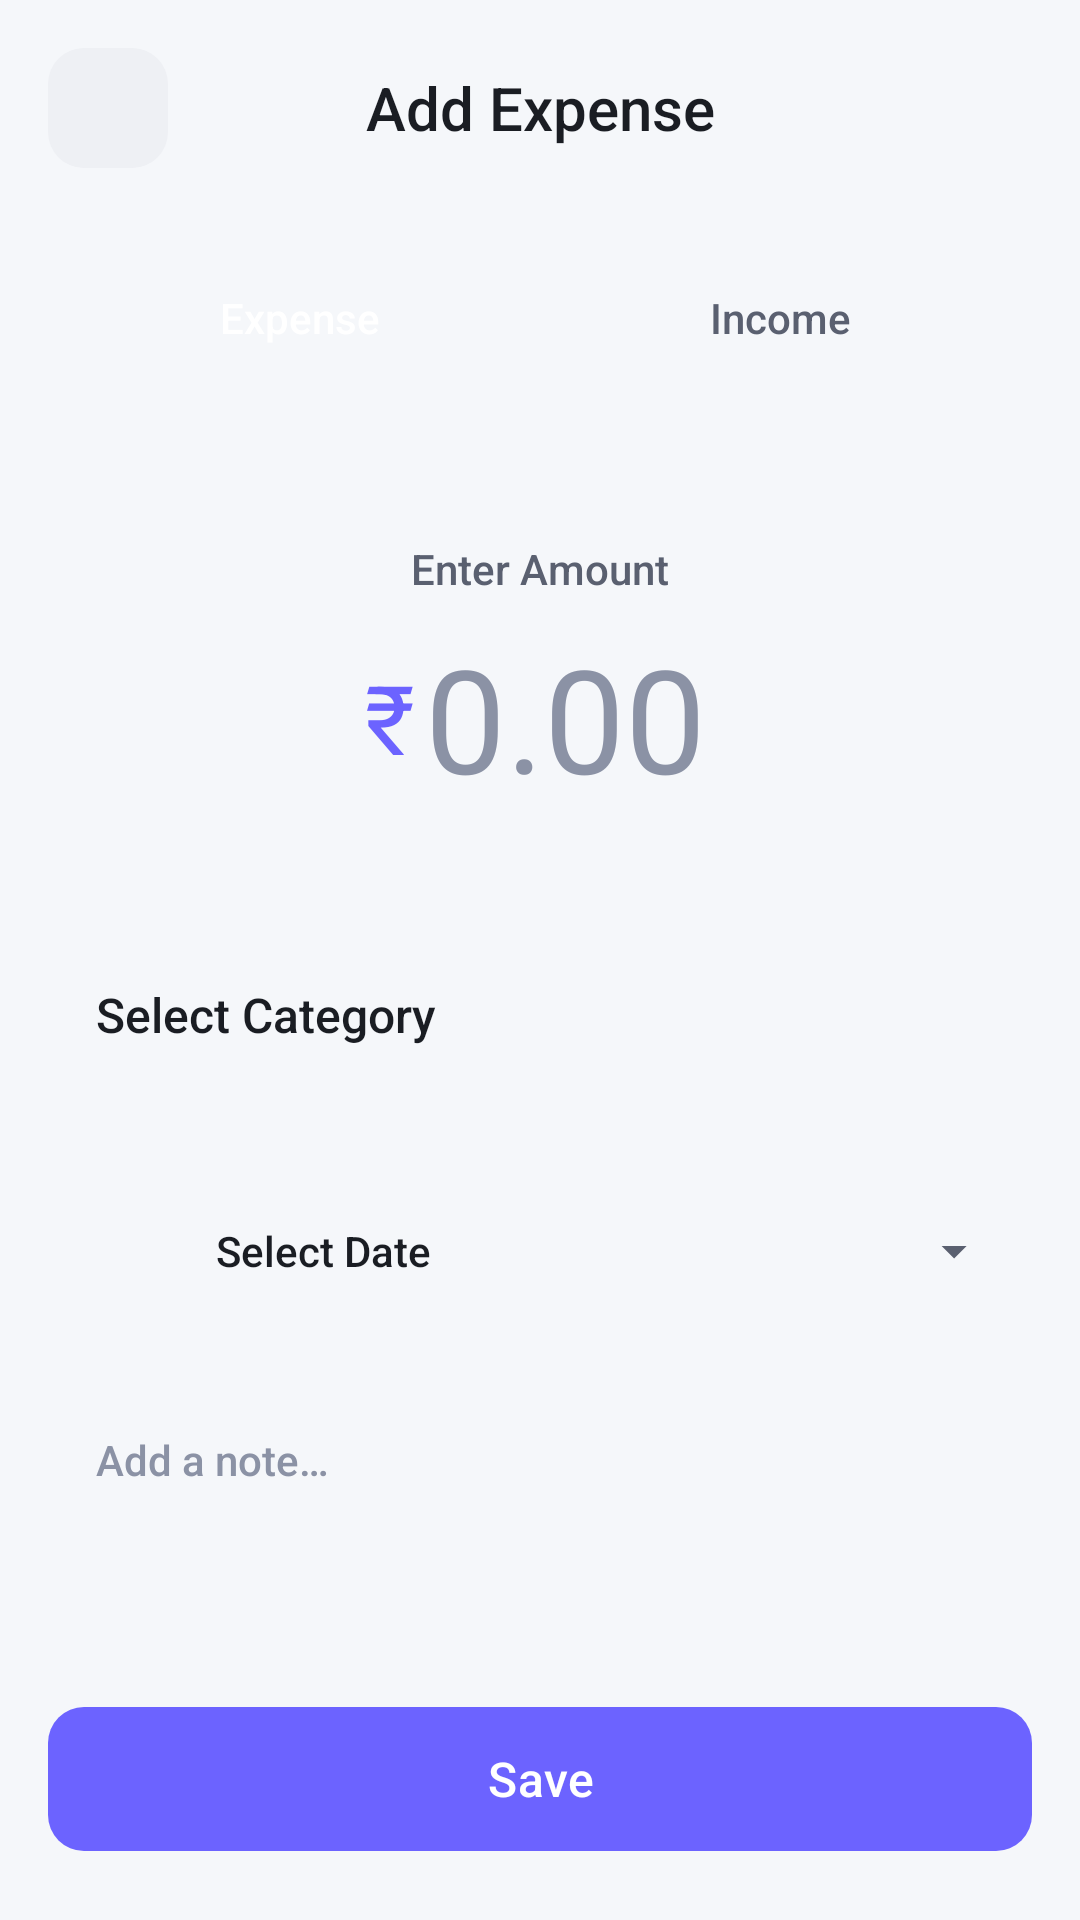

Icons on this 1080w x 1920h Android screen, each with its box as {"x1": x1, "y1": y1, "x2": x2, "y2": y2}:
dropdown: {"x1": 942, "y1": 1246, "x2": 967, "y2": 1259}
